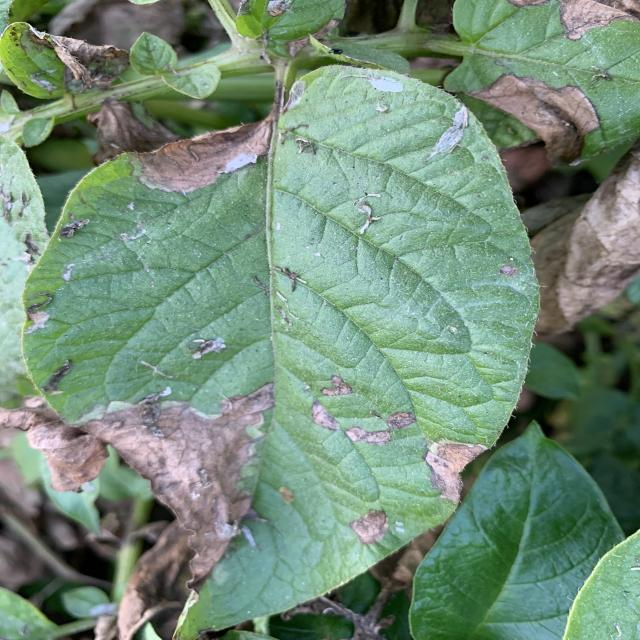lateblight: (80, 384, 273, 588), (468, 72, 600, 164), (137, 115, 273, 194), (425, 440, 487, 500), (560, 0, 638, 40), (345, 411, 417, 445), (350, 510, 388, 544), (312, 400, 340, 431), (322, 375, 352, 395), (508, 0, 542, 6)
